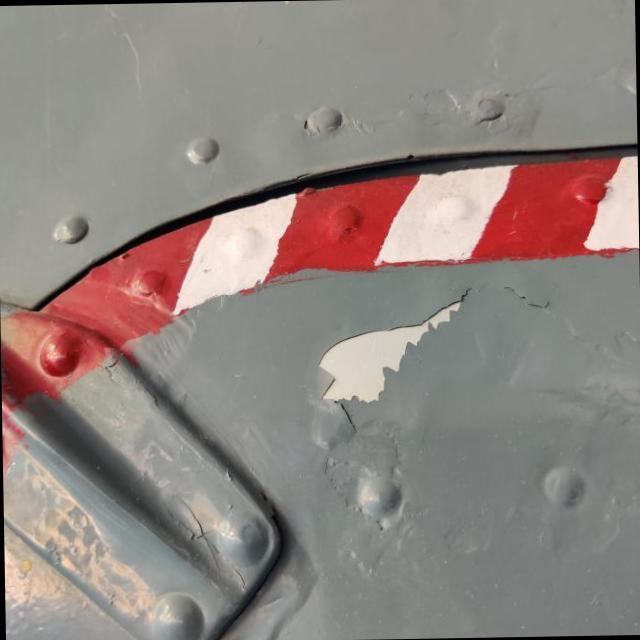Paint-off: (320, 302, 461, 403)
